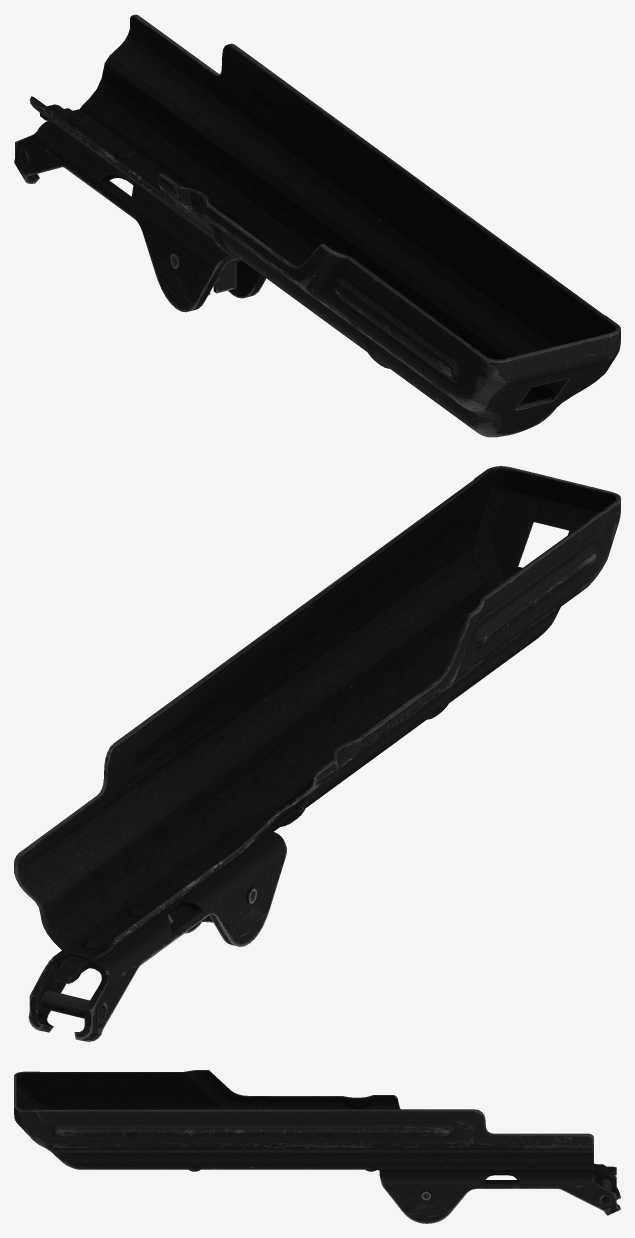
3 renders of one model, top to bottom at view 1: azimuth 30°, elevation 25°; view 2: azimuth 150°, elevation 25°; view 3: azimuth 270°, elevation 25°, orthographic. The views are drawn at different scales.
Visible parts, largest first — view 1: TW_57dc334d245977597164366f_PZ_Import; view 2: TW_57dc334d245977597164366f_PZ_Import; view 3: TW_57dc334d245977597164366f_PZ_Import.
Boxes of the visible parts, box(x1,y1,x2,y2) form: TW_57dc334d245977597164366f_PZ_Import: box(14, 14, 620, 437); TW_57dc334d245977597164366f_PZ_Import: box(14, 466, 620, 1041); TW_57dc334d245977597164366f_PZ_Import: box(14, 1070, 620, 1223).
Bounding box in the file's own units: 0.0238 × 0.1416 × 0.032.
1 material, 1 textured.
